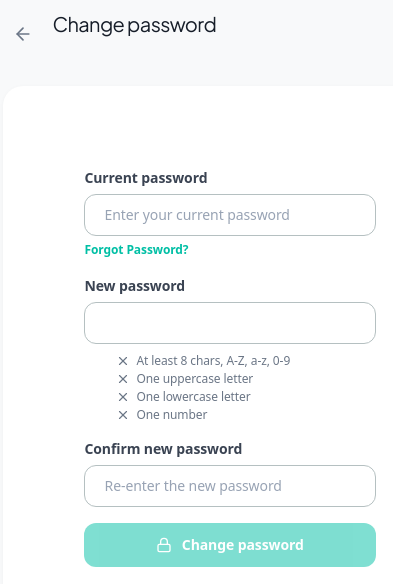
Test: ChangePassword › keeps Save disabled until all three fields are filled and valid
Expected: the button with test id "password-save" is disabled, [84,523,376,567]
Step 1. Type "OldPass1" into the password field with test id "password-current" → (230, 215), box [84,194,376,236]
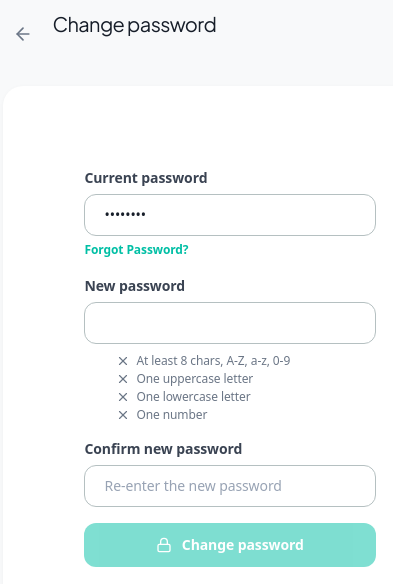
Step 2. Type "NewPass1" into the password field with test id "password-new" → (230, 323), box [84,302,376,344]
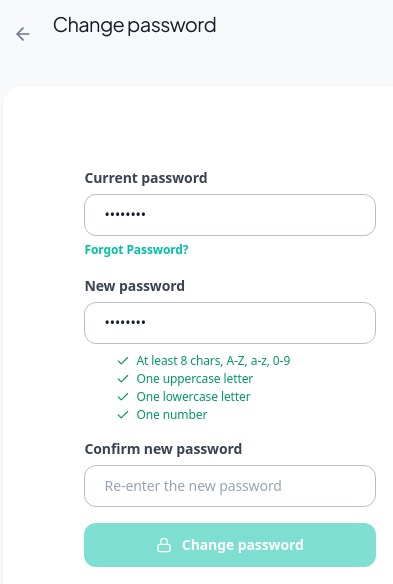
Step 3. Type "NewPass1" into the password field with test id "password-confirm" → (230, 486), box [84,465,376,507]
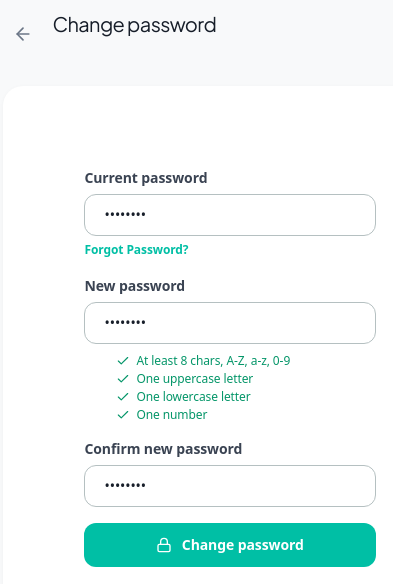
Result: the button with test id "password-save" is enabled at [84,523,376,567]
